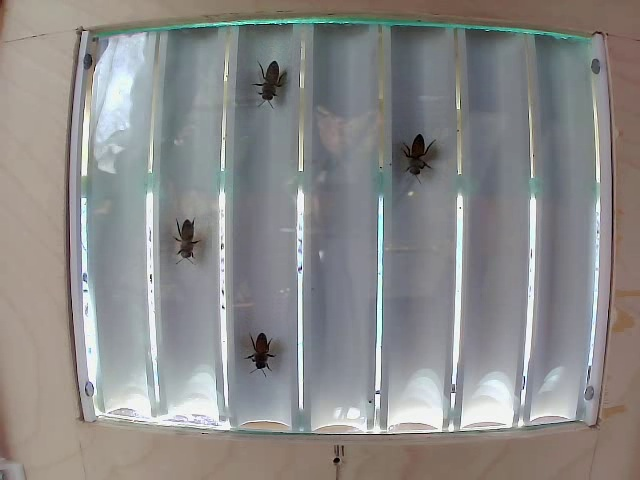bee: (238, 325, 291, 394), (254, 49, 296, 111), (173, 215, 208, 271), (401, 133, 436, 177)
